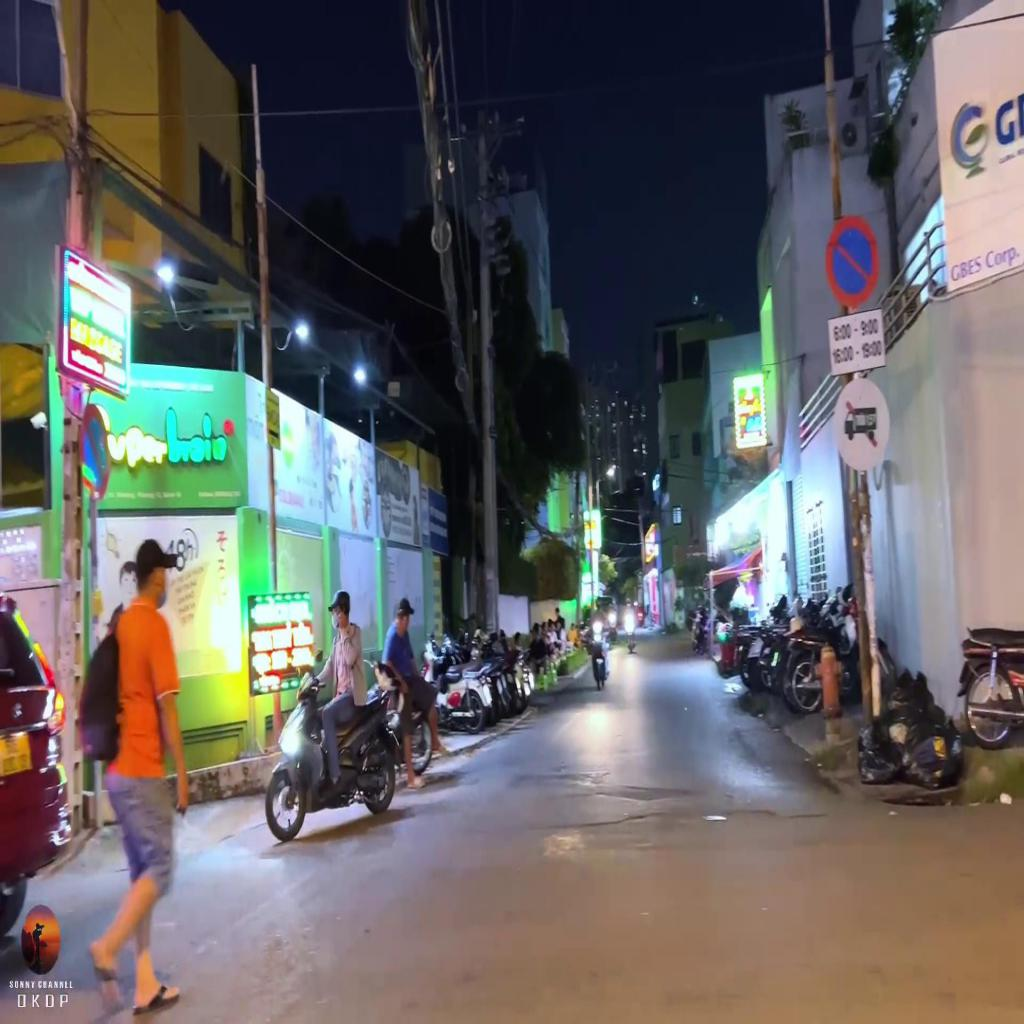cam_do_xe: (823, 212, 880, 312), (78, 406, 110, 499)
cam_o_to_tai_trong_luong_qua_2-5t: (830, 376, 892, 472)
khac: (830, 308, 886, 378)
